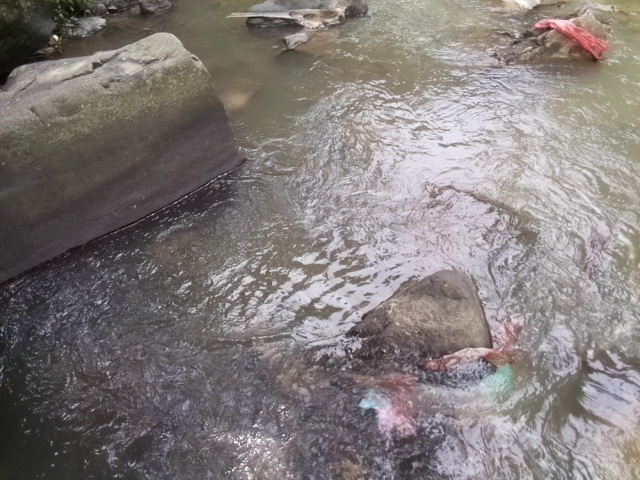Sampah_Plastik: (533, 15, 612, 61)
